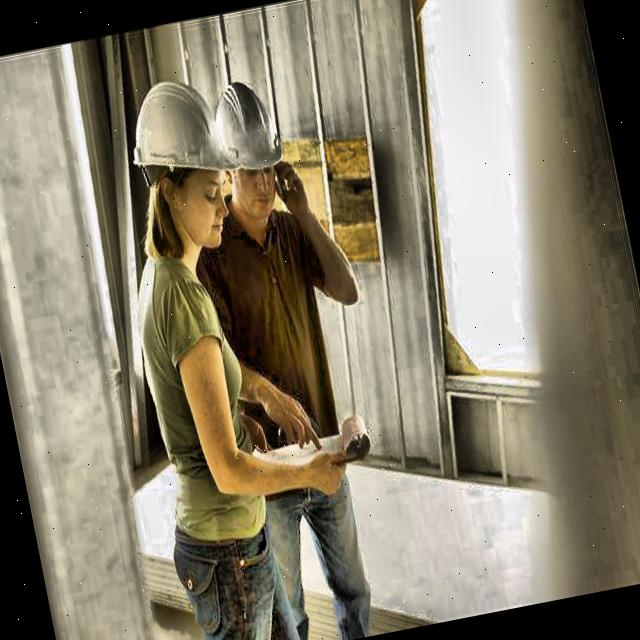helmet: (120, 70, 252, 259), (203, 72, 297, 221)
